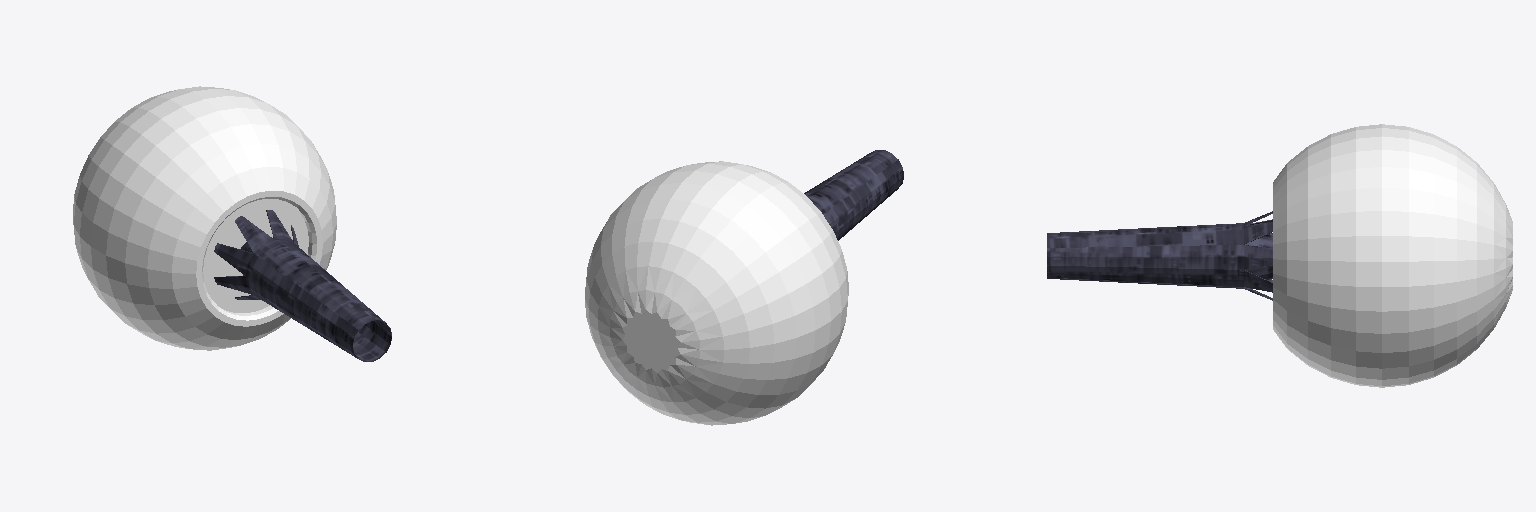
The picture shows the model from 3 angles: view 1: azimuth 30°, elevation 25°; view 2: azimuth 150°, elevation 25°; view 3: azimuth 270°, elevation 25°; orthographic projection.
Visible parts, largest first — view 1: jaguar_company_base_turret; view 2: jaguar_company_base_turret; view 3: jaguar_company_base_turret.
Boxes of the visible parts, box(x1,y1,x2,y2) form: jaguar_company_base_turret: box(73, 86, 391, 361); jaguar_company_base_turret: box(585, 150, 903, 425); jaguar_company_base_turret: box(1047, 124, 1512, 387).
Bounding box in the file's own units: 24 × 24 × 42.4.
2 materials, 1 textured.